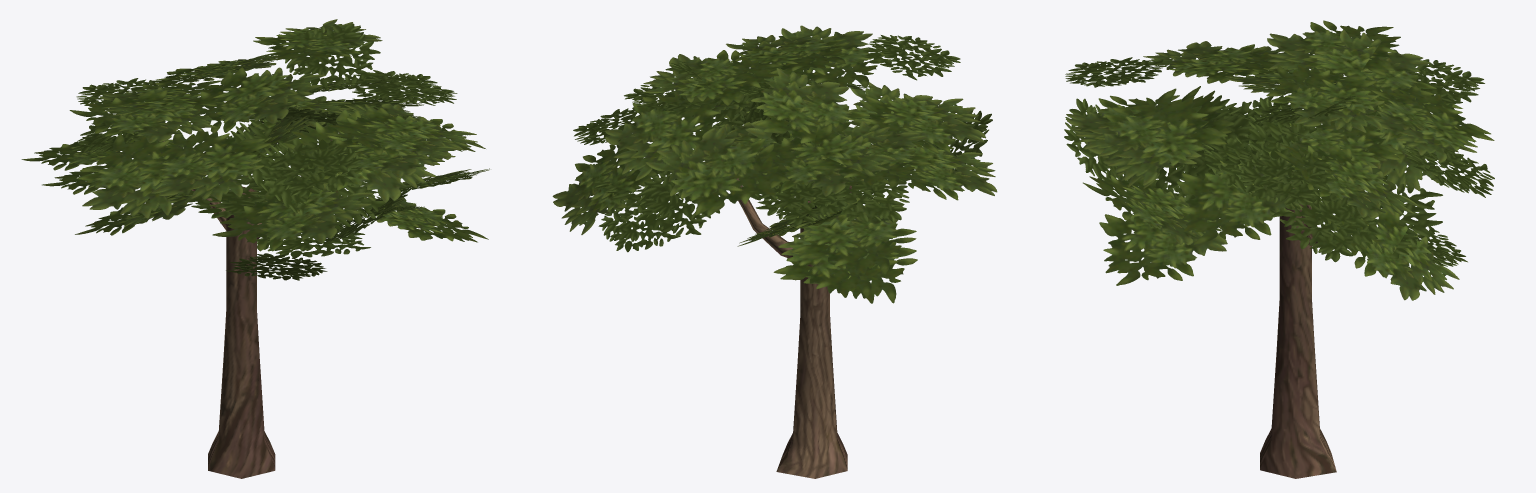
Rendered from Tree_C_2.fbx.
3 renders of one model, left to right at view 1: azimuth 30°, elevation 25°; view 2: azimuth 150°, elevation 25°; view 3: azimuth 270°, elevation 25°, orthographic. The views are drawn at different scales.
Visible parts, largest first — view 1: Tree_C_2__20_, Tree_C_Trunk; view 2: Tree_C_2__20_, Tree_C_Trunk; view 3: Tree_C_2__20_, Tree_C_Trunk.
Boxes of the visible parts, box(x1,y1,x2,y2) form: Tree_C_2__20_: box(21, 19, 489, 280); Tree_C_Trunk: box(163, 133, 339, 478); Tree_C_2__20_: box(552, 25, 997, 303); Tree_C_Trunk: box(736, 178, 851, 478); Tree_C_2__20_: box(1064, 20, 1494, 300); Tree_C_Trunk: box(1260, 110, 1336, 478).
Size of the model in its own units: 0.9176 by 0.7856 by 0.8168.
Materials: 2 (2 with a texture image).
